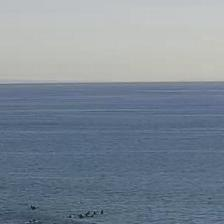surfer: (28, 218, 38, 223), (30, 204, 36, 210), (78, 213, 84, 219), (92, 210, 97, 214), (86, 211, 90, 216), (100, 210, 104, 214), (69, 215, 72, 218), (91, 216, 95, 218)
